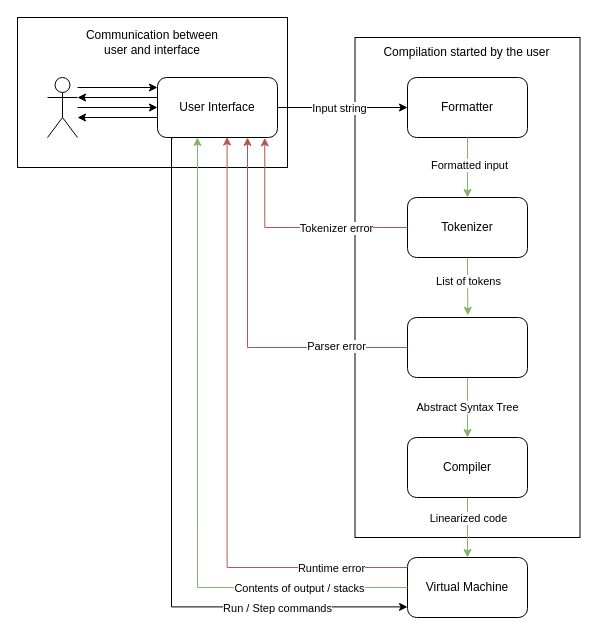
Image size: 598x635. Some labels were removed from this diagram. The shapes that lost their labels are listed below. From the top down, each one's centre as x and y in pixels, then its label:
At (62,107): "User".
At (467,347): "Parser".
